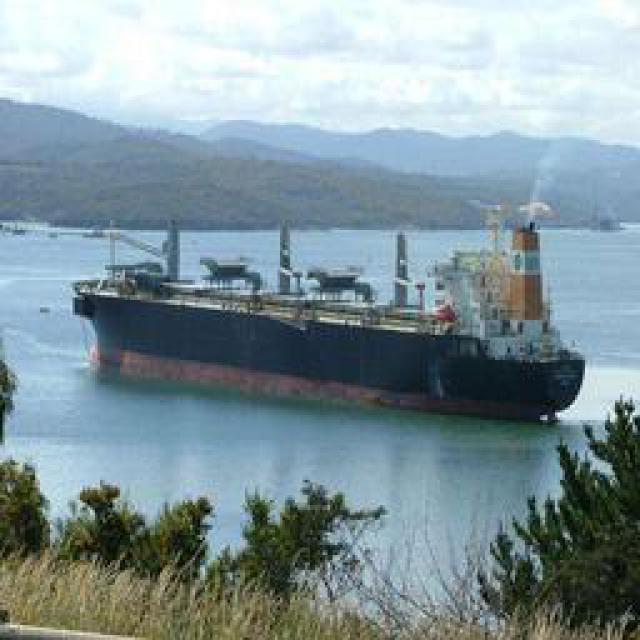Ship: (63, 212, 591, 415)
